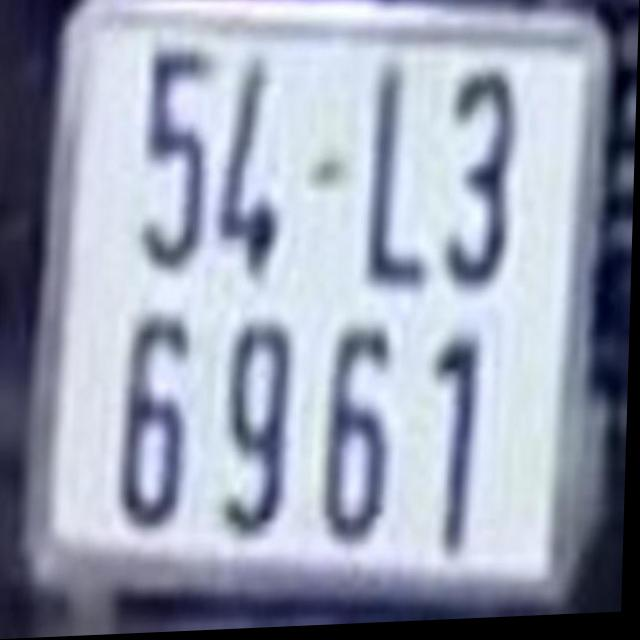1: (431, 333, 480, 556)
3: (450, 72, 520, 303)
4: (219, 57, 281, 279)
5: (140, 43, 212, 277)
6: (331, 318, 395, 552), (122, 312, 191, 527)
9: (226, 320, 293, 535)
L: (373, 63, 437, 294)
